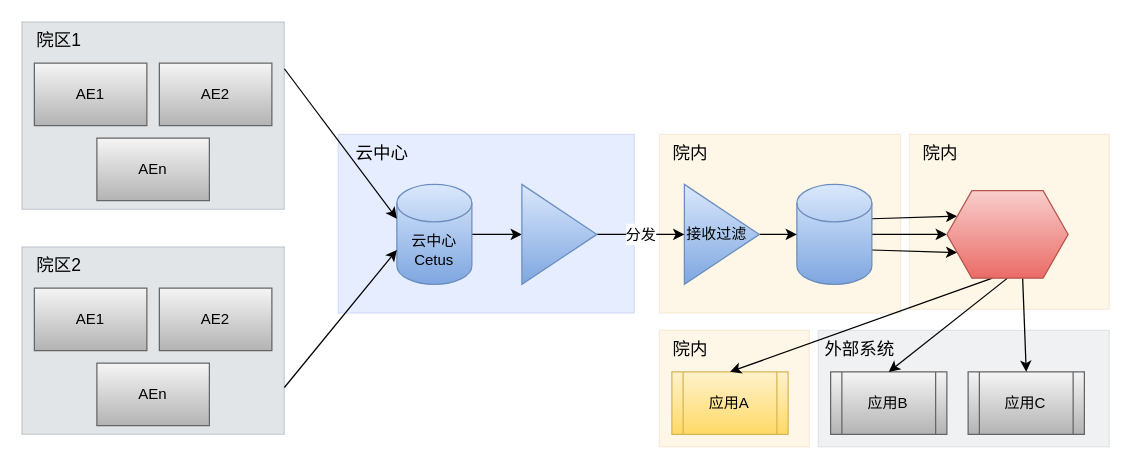
The diagram is 1131 pixels wide and 469 high, and some of its shapes have lost their labels. The box of each missing label's shape, as (x1, y1, x2, y2) in pixels:
shenzhou Cetus: (796, 183, 872, 284)
分发集成引擎 （分发，过滤，结果汇总）: (946, 189, 1068, 278)
转发过滤: (521, 183, 597, 284)
